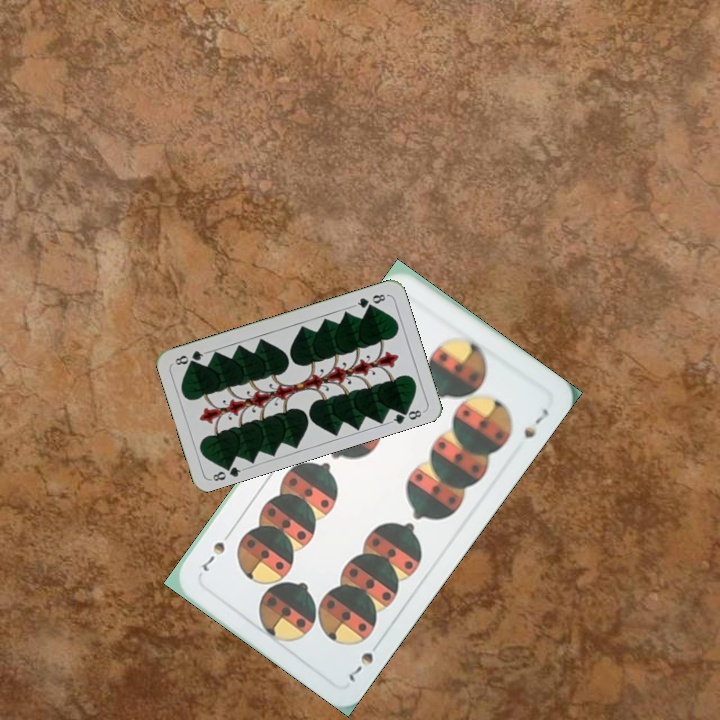G8: (207, 459, 247, 484), (350, 290, 390, 311)
S7: (344, 635, 385, 686)
